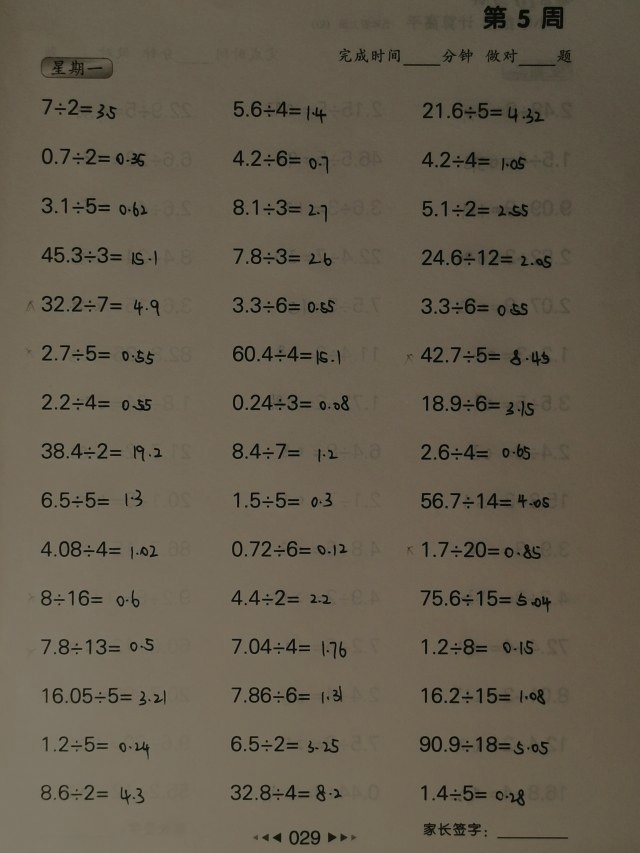equation: (403, 341, 554, 368), (415, 585, 555, 612), (25, 291, 163, 318), (417, 244, 555, 271), (403, 536, 544, 562), (418, 97, 547, 125), (415, 731, 553, 757), (37, 682, 170, 708), (417, 488, 554, 513), (417, 682, 548, 708), (418, 390, 539, 418), (415, 780, 530, 809), (37, 438, 165, 464), (37, 340, 158, 367), (36, 242, 160, 268), (228, 634, 350, 660), (228, 390, 354, 415), (36, 537, 161, 562), (227, 682, 347, 708), (228, 536, 352, 561), (227, 780, 346, 806), (227, 341, 345, 367), (36, 779, 148, 806), (226, 730, 342, 756), (418, 439, 534, 465), (229, 145, 333, 174), (418, 634, 538, 659), (38, 731, 153, 757), (227, 438, 341, 464), (417, 293, 531, 319), (37, 390, 155, 415), (37, 193, 150, 219), (417, 147, 530, 173), (228, 194, 332, 222), (36, 634, 157, 658), (36, 486, 146, 512), (418, 196, 532, 221), (36, 585, 143, 611), (228, 97, 331, 124), (229, 243, 335, 269), (229, 293, 339, 318), (36, 144, 149, 168), (228, 584, 335, 609), (230, 488, 337, 513), (36, 94, 117, 122)
